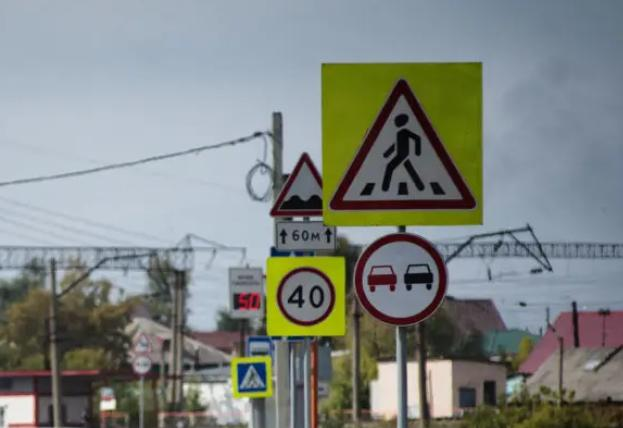obstructed_road_sign: (267, 257, 345, 335), (269, 150, 323, 217), (246, 336, 272, 357)
road_sign: (321, 64, 484, 226), (353, 230, 448, 326), (276, 221, 337, 250), (231, 357, 273, 398)
